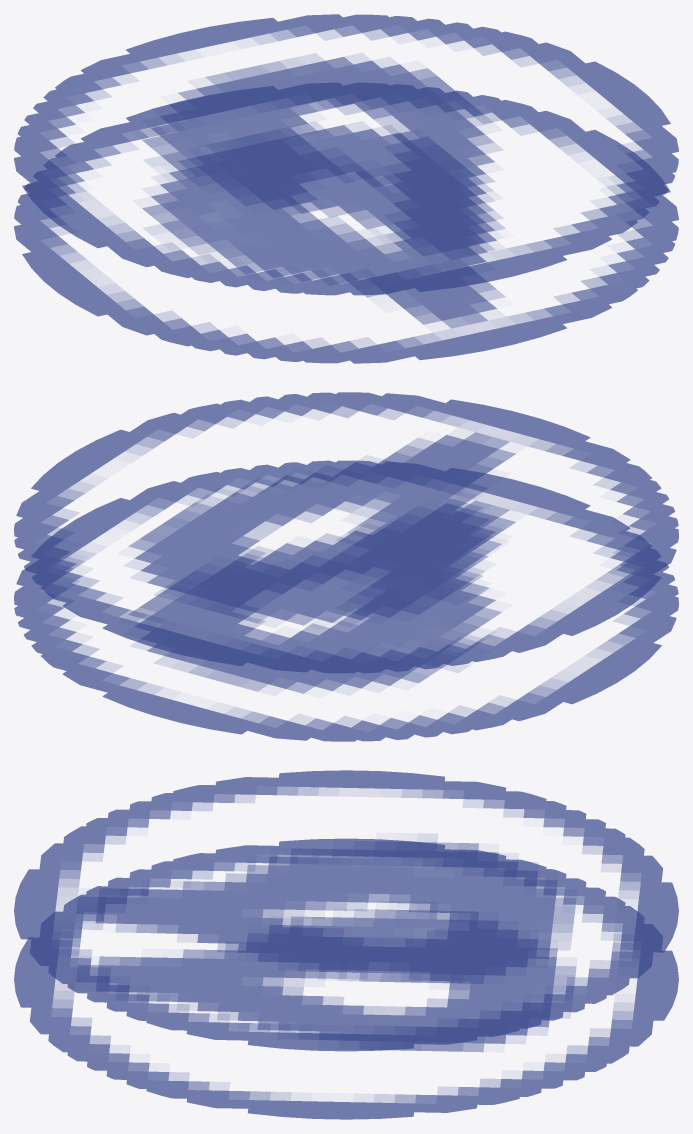
File: iron_cauldron_water.obj
3 renders of one model, top to bottom at view 1: azimuth 30°, elevation 25°; view 2: azimuth 150°, elevation 25°; view 3: azimuth 270°, elevation 25°, orthographic.
Parts seen in each view (by area): view 1: Water_Cylinder.002; view 2: Water_Cylinder.002; view 3: Water_Cylinder.002.
Part boxes in pixels (x1=…): Water_Cylinder.002: x1=14, y1=14, x2=678, y2=363; Water_Cylinder.002: x1=14, y1=392, x2=678, y2=741; Water_Cylinder.002: x1=14, y1=770, x2=678, y2=1119.
Bounding box in the file's own units: 0.612 × 0.0693 × 0.612.
